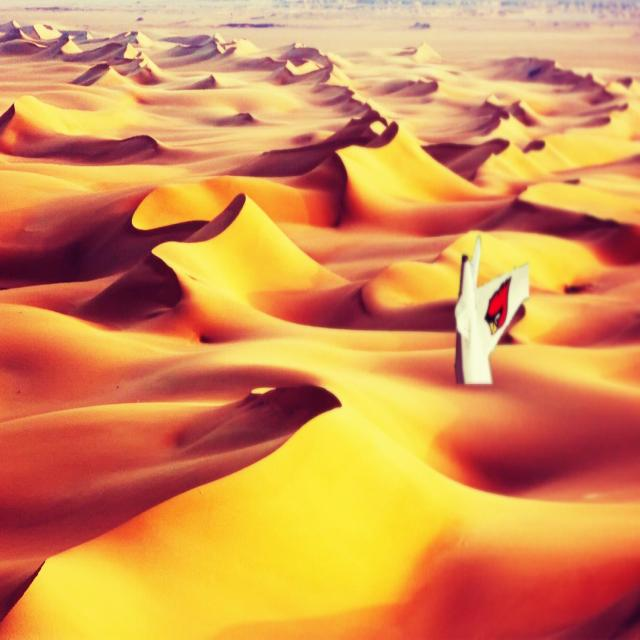airplane: (454, 234, 530, 385)
